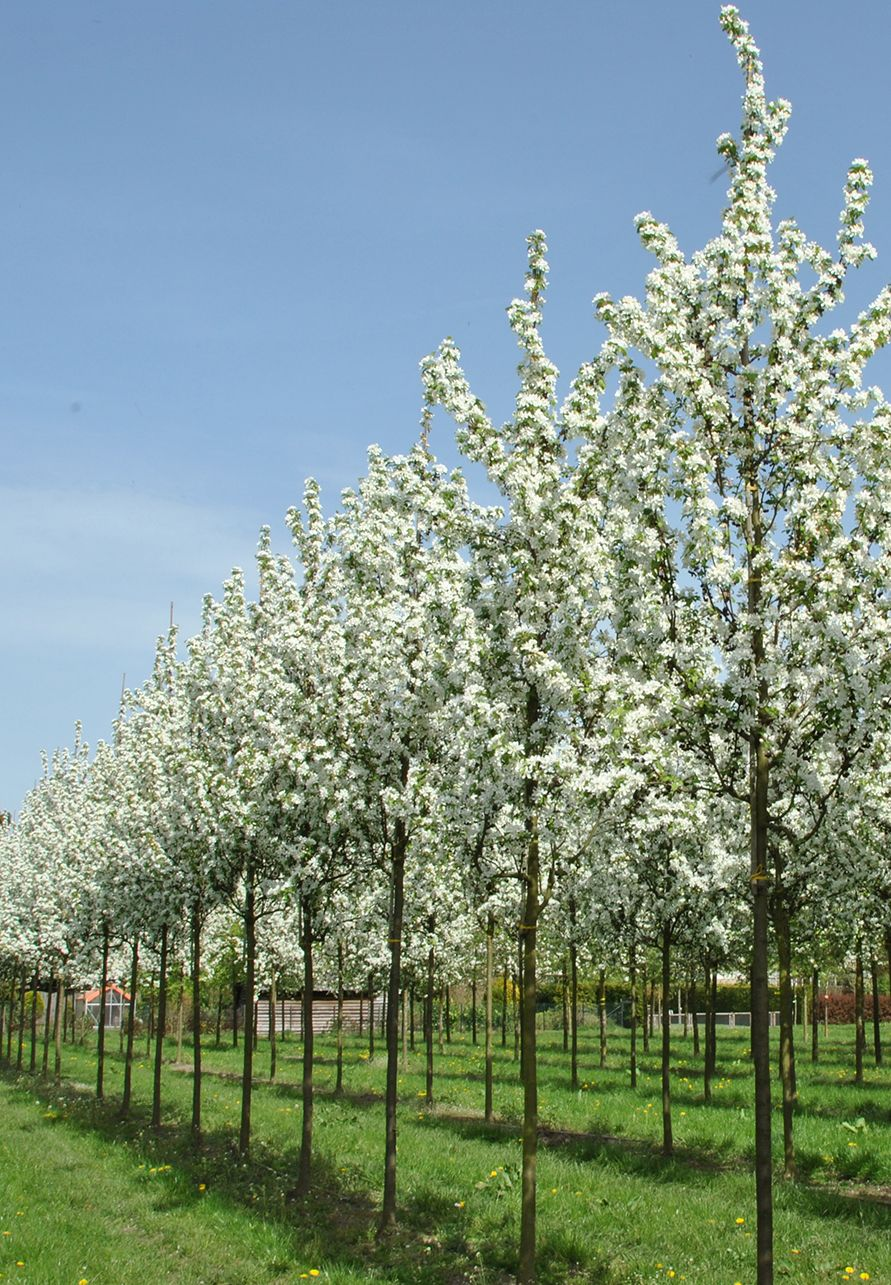tree: (601, 1, 891, 1285)
